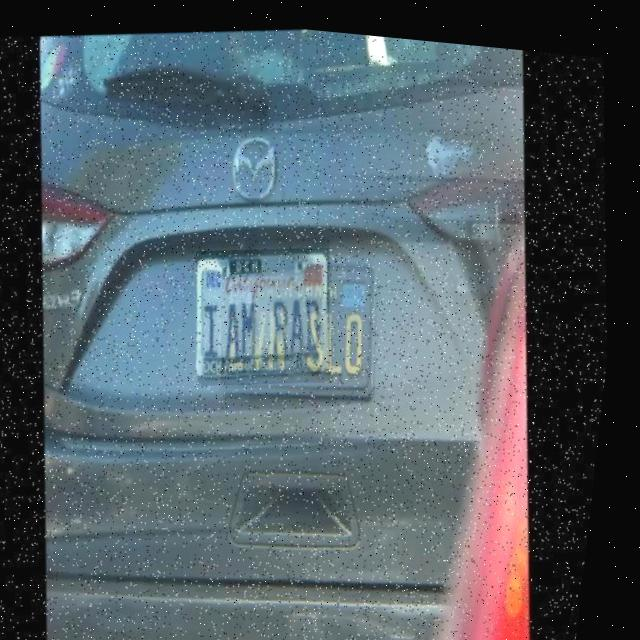LicensePlate: (190, 230, 350, 391)
